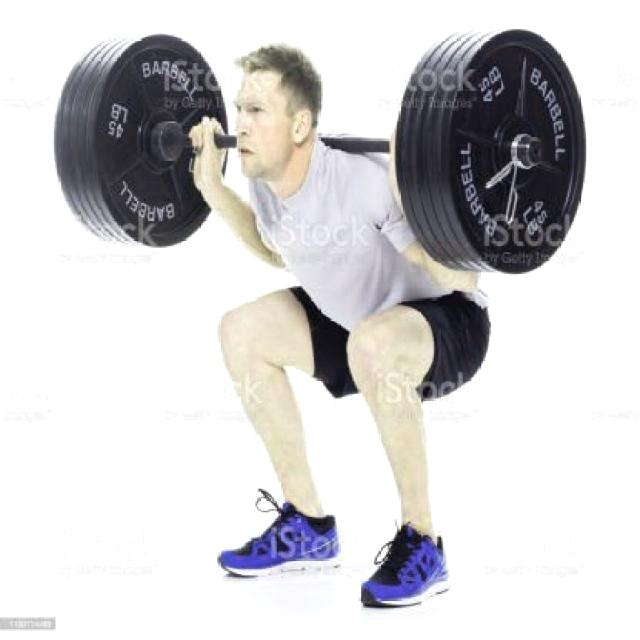barbell: (452, 27, 587, 277)
